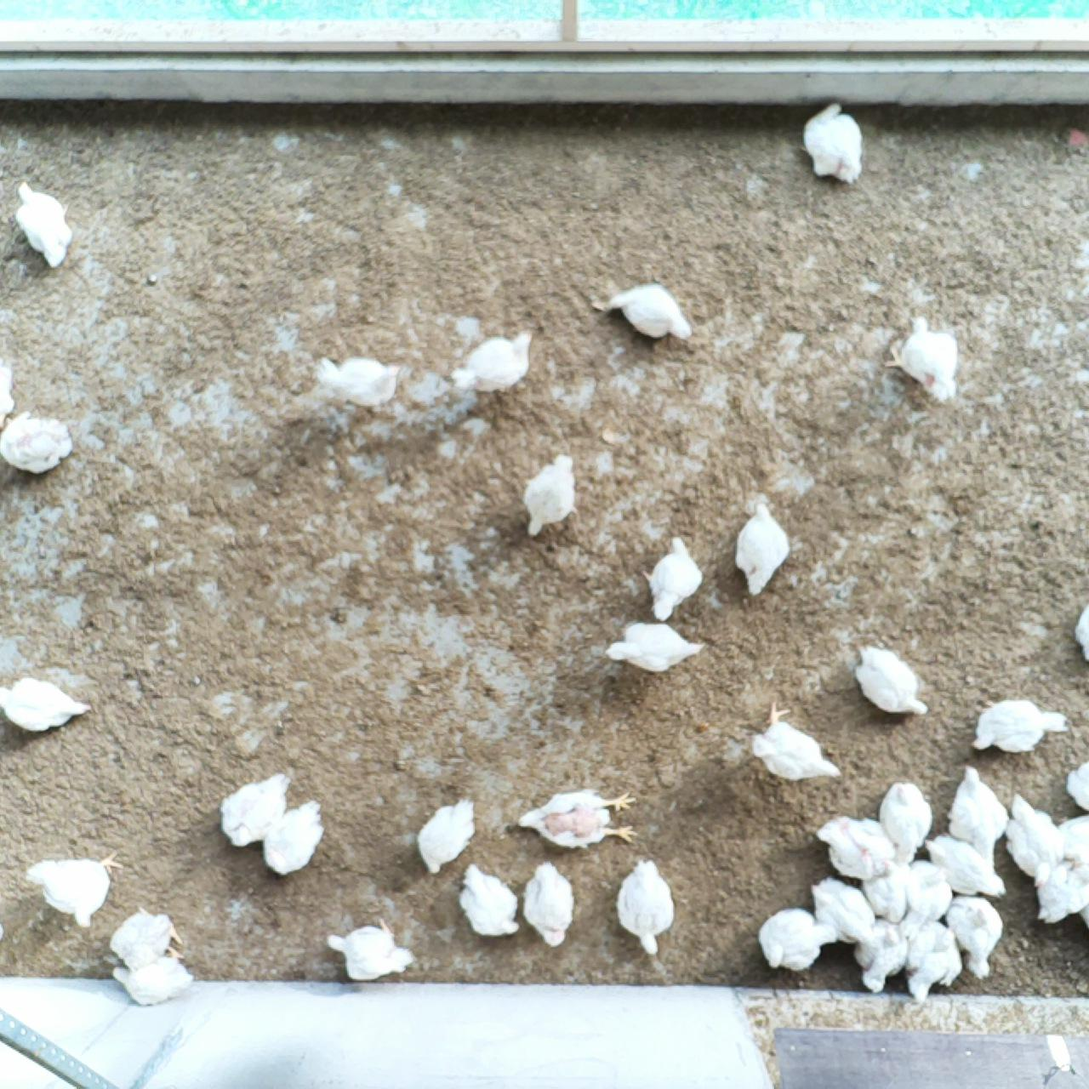chicken: (511, 787, 643, 854), (744, 698, 842, 787), (25, 850, 125, 931), (882, 315, 962, 403), (946, 762, 1011, 870), (853, 640, 934, 721), (795, 99, 868, 186), (325, 916, 418, 983), (600, 278, 694, 344), (614, 857, 676, 956), (971, 694, 1070, 756), (450, 328, 536, 399), (922, 829, 1007, 899), (1035, 820, 1089, 930), (603, 618, 707, 675), (1002, 791, 1064, 886), (11, 178, 75, 270), (756, 905, 841, 974), (219, 771, 292, 851), (733, 500, 791, 600), (516, 453, 583, 539), (111, 945, 197, 1011), (0, 676, 94, 736), (641, 535, 704, 623), (944, 892, 1005, 981), (312, 351, 404, 410), (261, 797, 327, 878), (807, 874, 877, 949), (108, 905, 185, 973), (414, 797, 479, 877), (817, 814, 894, 881), (0, 409, 76, 476), (458, 860, 522, 938), (876, 779, 934, 864), (522, 860, 576, 948), (905, 919, 961, 1003), (853, 912, 908, 996), (899, 860, 955, 940), (861, 855, 911, 922), (1065, 757, 1089, 815), (0, 356, 16, 433), (1071, 597, 1089, 664)
